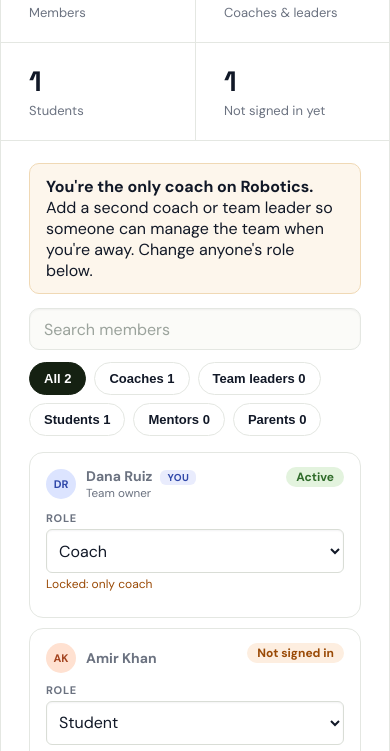
Test case: ManageTeamPage roster › filters the roster by search box and role chip
The width and height of the screenshot is (390, 751).
(page scrolled)
// Search narrows to a single member.
In the search field with placeholder "Search members": (195, 329) [29, 308, 361, 350], type "amir"
(page scrolled)
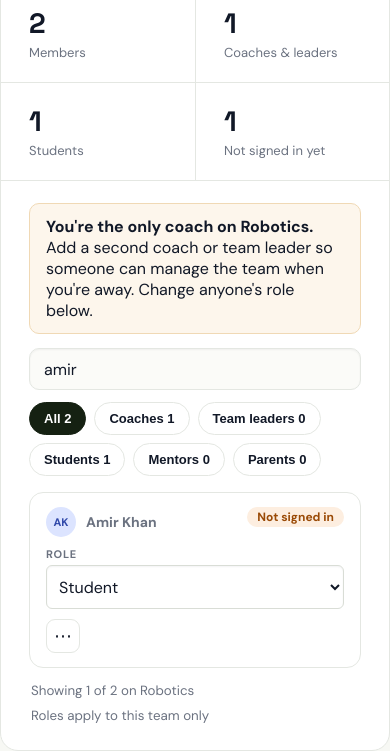
Check: the text "Amir Khan" is shown, box [86, 513, 157, 531]
Check: the text "Dana Ruiz" is gone
// Clearing search and choosing the Coaches chip shows coaches only.
Clear the search field with placeholder "Search members": (195, 369) [29, 348, 361, 390]
(page scrolled)
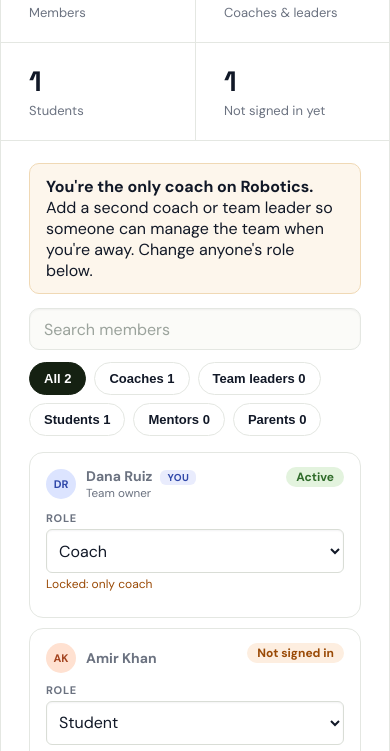
Click the button "Coaches 1": (142, 378) [94, 362, 190, 395]
(page scrolled)
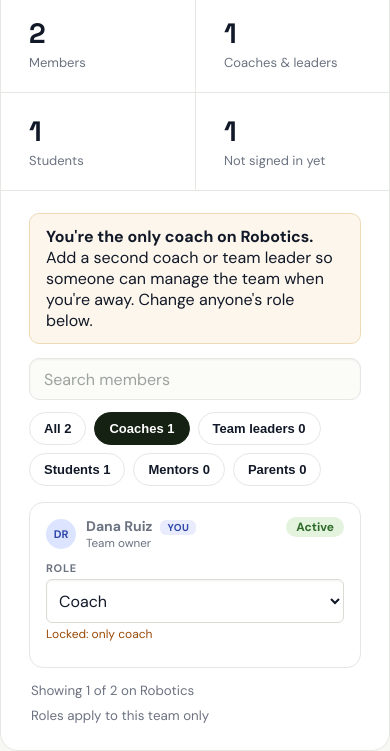
Check: the text "Dana Ruiz" is shown, box [86, 517, 152, 535]
Check: the text "Amir Khan" is gone
